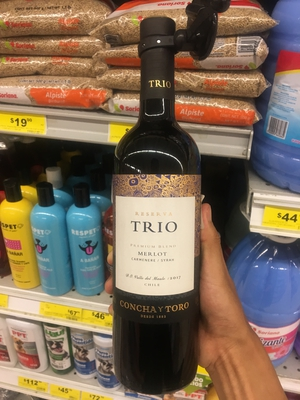trio merlot: (110, 29, 202, 375)
